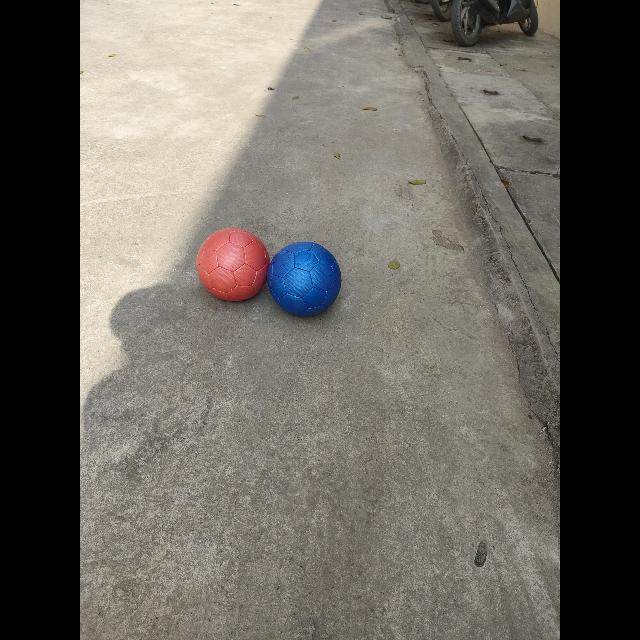B: (268, 241, 341, 316)
R: (196, 228, 270, 301)
